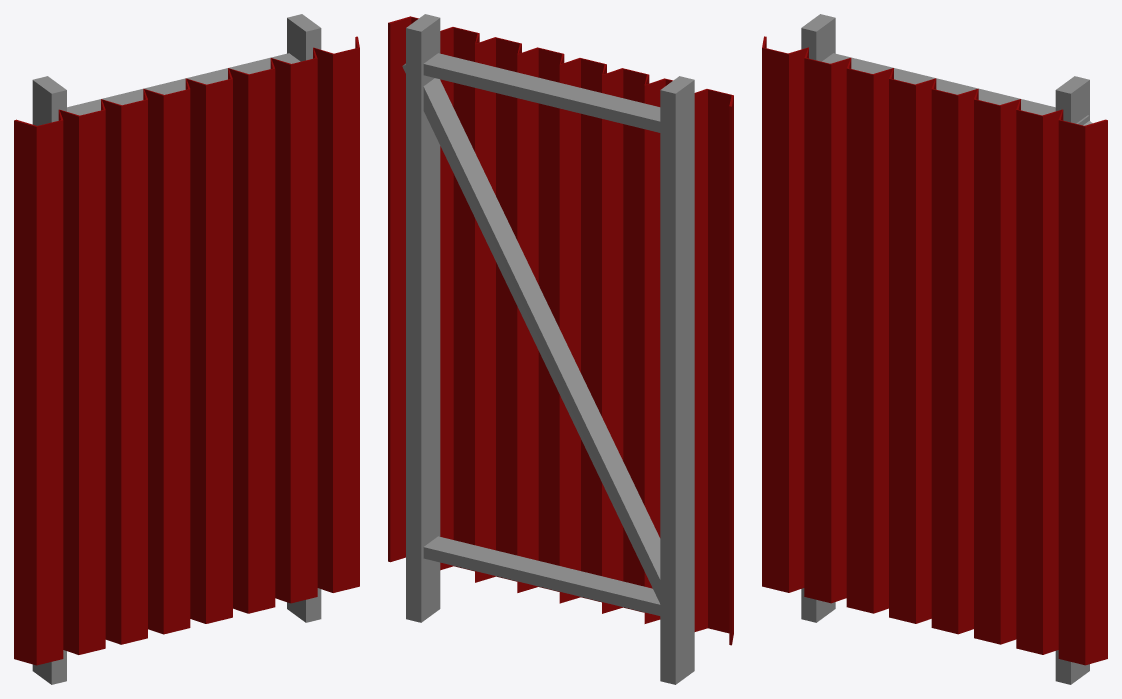
The model's file is Cover1.FBX.
3 views of the same model, side by side, from view 1: azimuth 30°, elevation 25°; view 2: azimuth 150°, elevation 25°; view 3: azimuth 330°, elevation 25° (orthographic).
Parts seen in each view (by area): view 1: Cover1; view 2: Cover1; view 3: Cover1.
Part boxes in pixels (x1=…): Cover1: x1=14, y1=14, x2=359, y2=684; Cover1: x1=388, y1=14, x2=733, y2=684; Cover1: x1=762, y1=14, x2=1107, y2=684.
Bounding box in the file's own units: 160 × 263 × 25.16.
